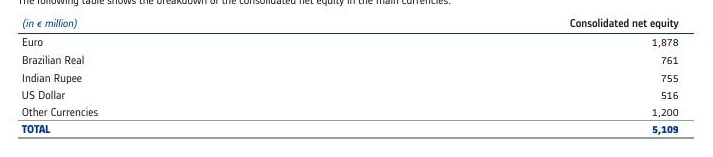table: (0, 0, 713, 157)
